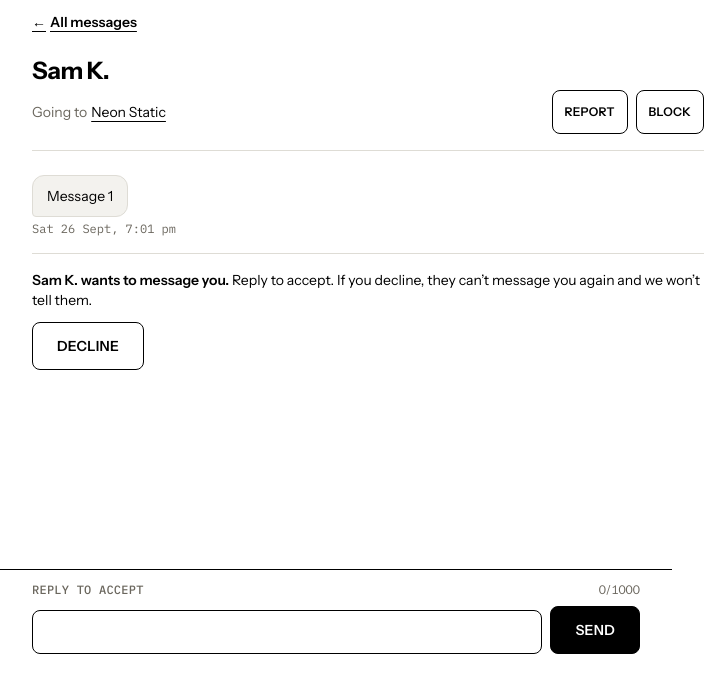
Test: Thread — requests › received: reply to accept, with the choice to decline explained
Expected: the text "Sam K. wants to message you." is shown, x1=32 y1=271 x2=229 y2=289
Type "Sure, hi!" into the text box labelled "Reply to accept" at (287, 632), box x1=32 y1=610 x2=542 y2=654
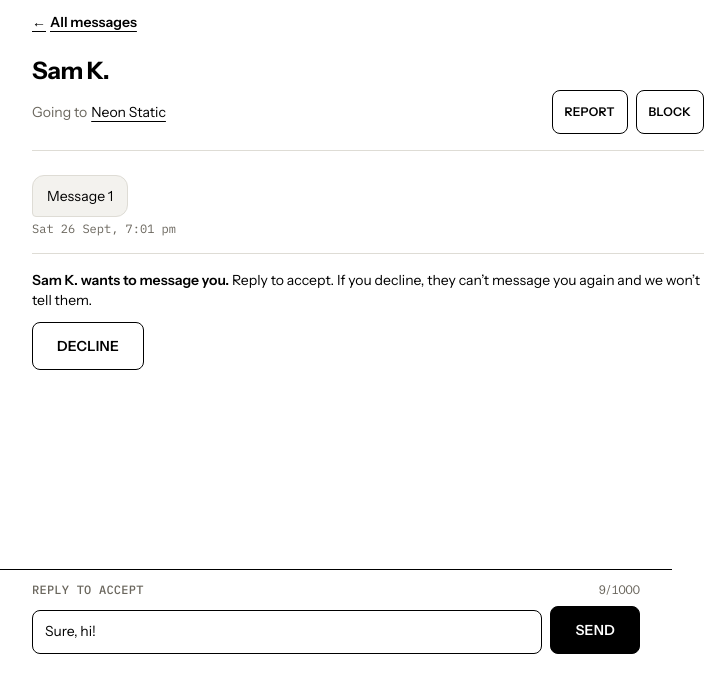
Click the button "Send" at (595, 630), box x1=550 y1=606 x2=640 y2=654
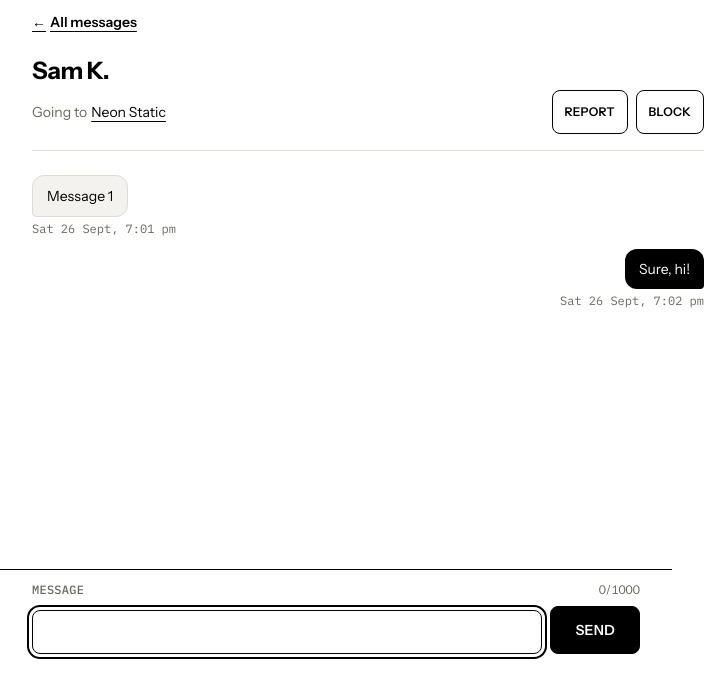
Expected: the text box named "Message Sam K." is shown, x1=32 y1=610 x2=542 y2=654
Expected: the text "Sure, hi!" is shown, x1=625 y1=249 x2=704 y2=289
Expected: the button "decline" is gone
